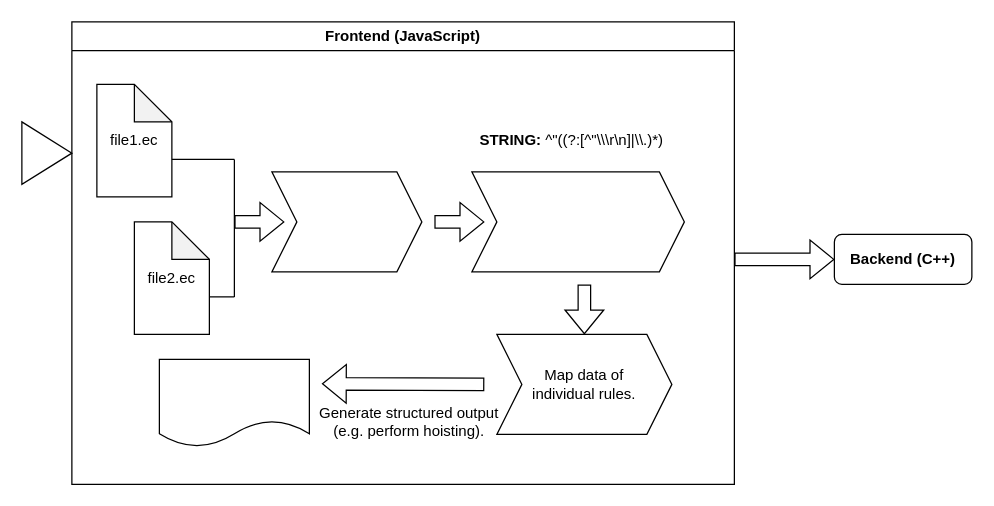
Image size: 994x506. Some labels were removed from this diagram. Each missing label, with the centre of its shape:
Apply recursive parsing rules with regex-based terminals.: (577,221)
JSON output: (233,402)
Read files and merge into modules: (346,221)
